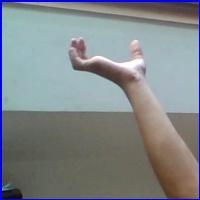space: (64, 31, 154, 87)
